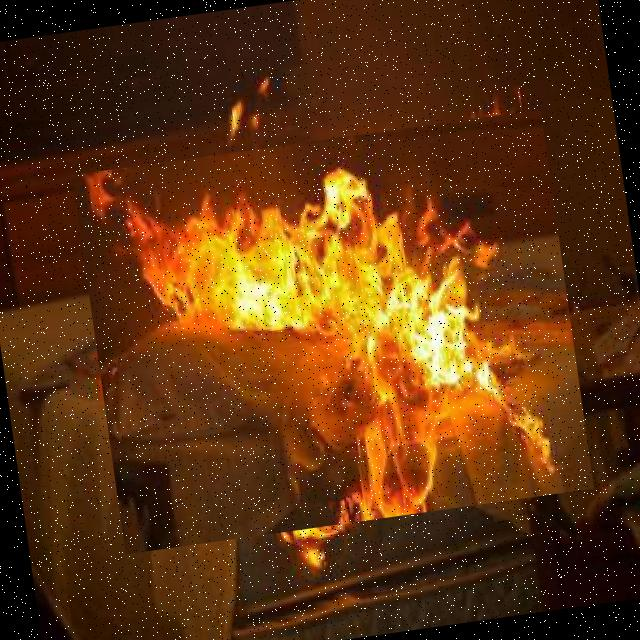fire: (72, 110, 594, 554)
